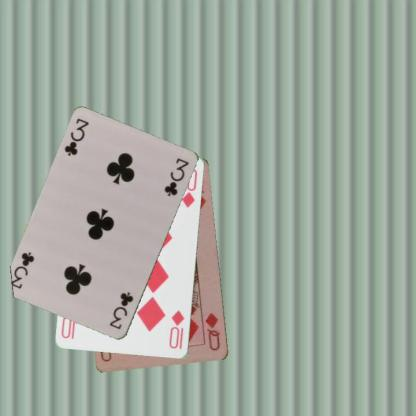10d: (166, 308, 186, 350)
3c: (62, 116, 91, 158), (107, 290, 135, 331)
Qd: (203, 310, 222, 352)
